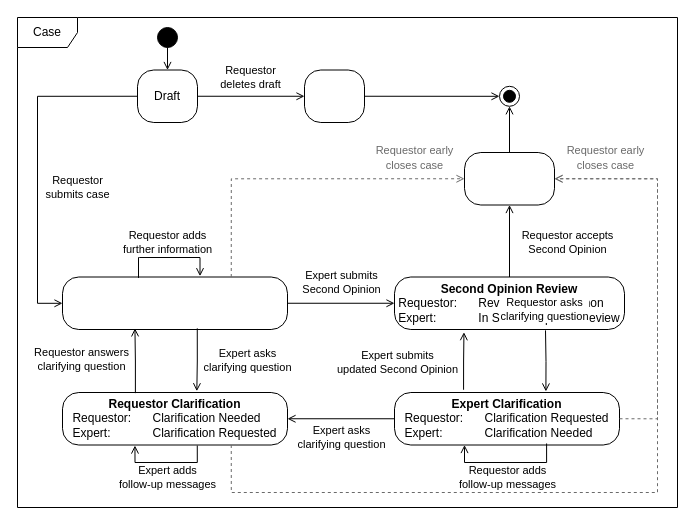
This 695x525 diagram has some shape labels left out. The centre of each missing label's shape, as x and y in pixels:
Case Review Requestor: In Review Expert: Second Opinion Needed: point 175,303
Completed: point 509,178
Deleted: point 334,95
